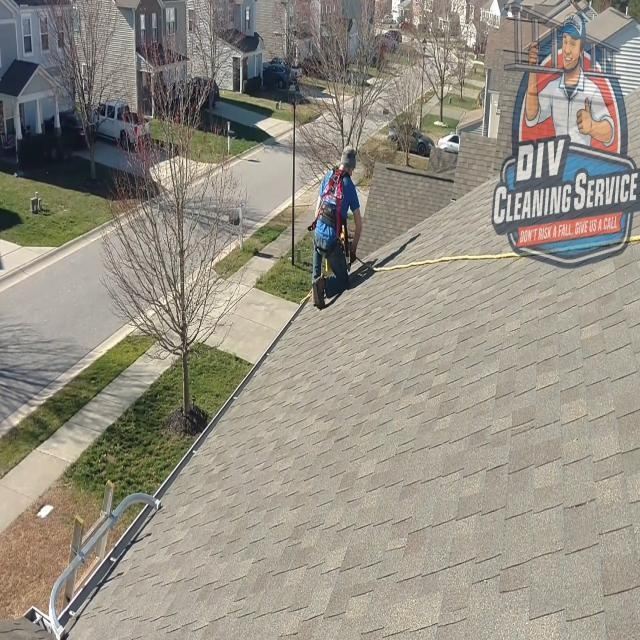Arnes_seguridad: (311, 162, 347, 261)
